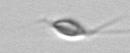plankton: (29, 13, 130, 41)
